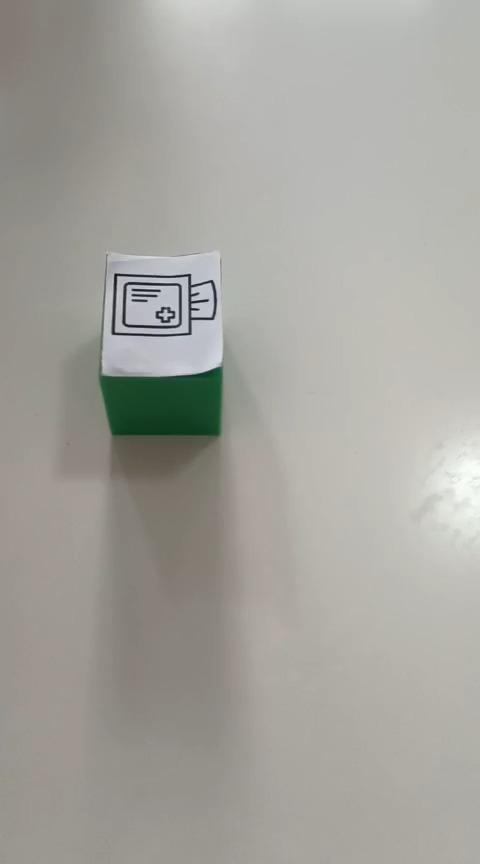Gauze: (97, 248, 224, 436)
